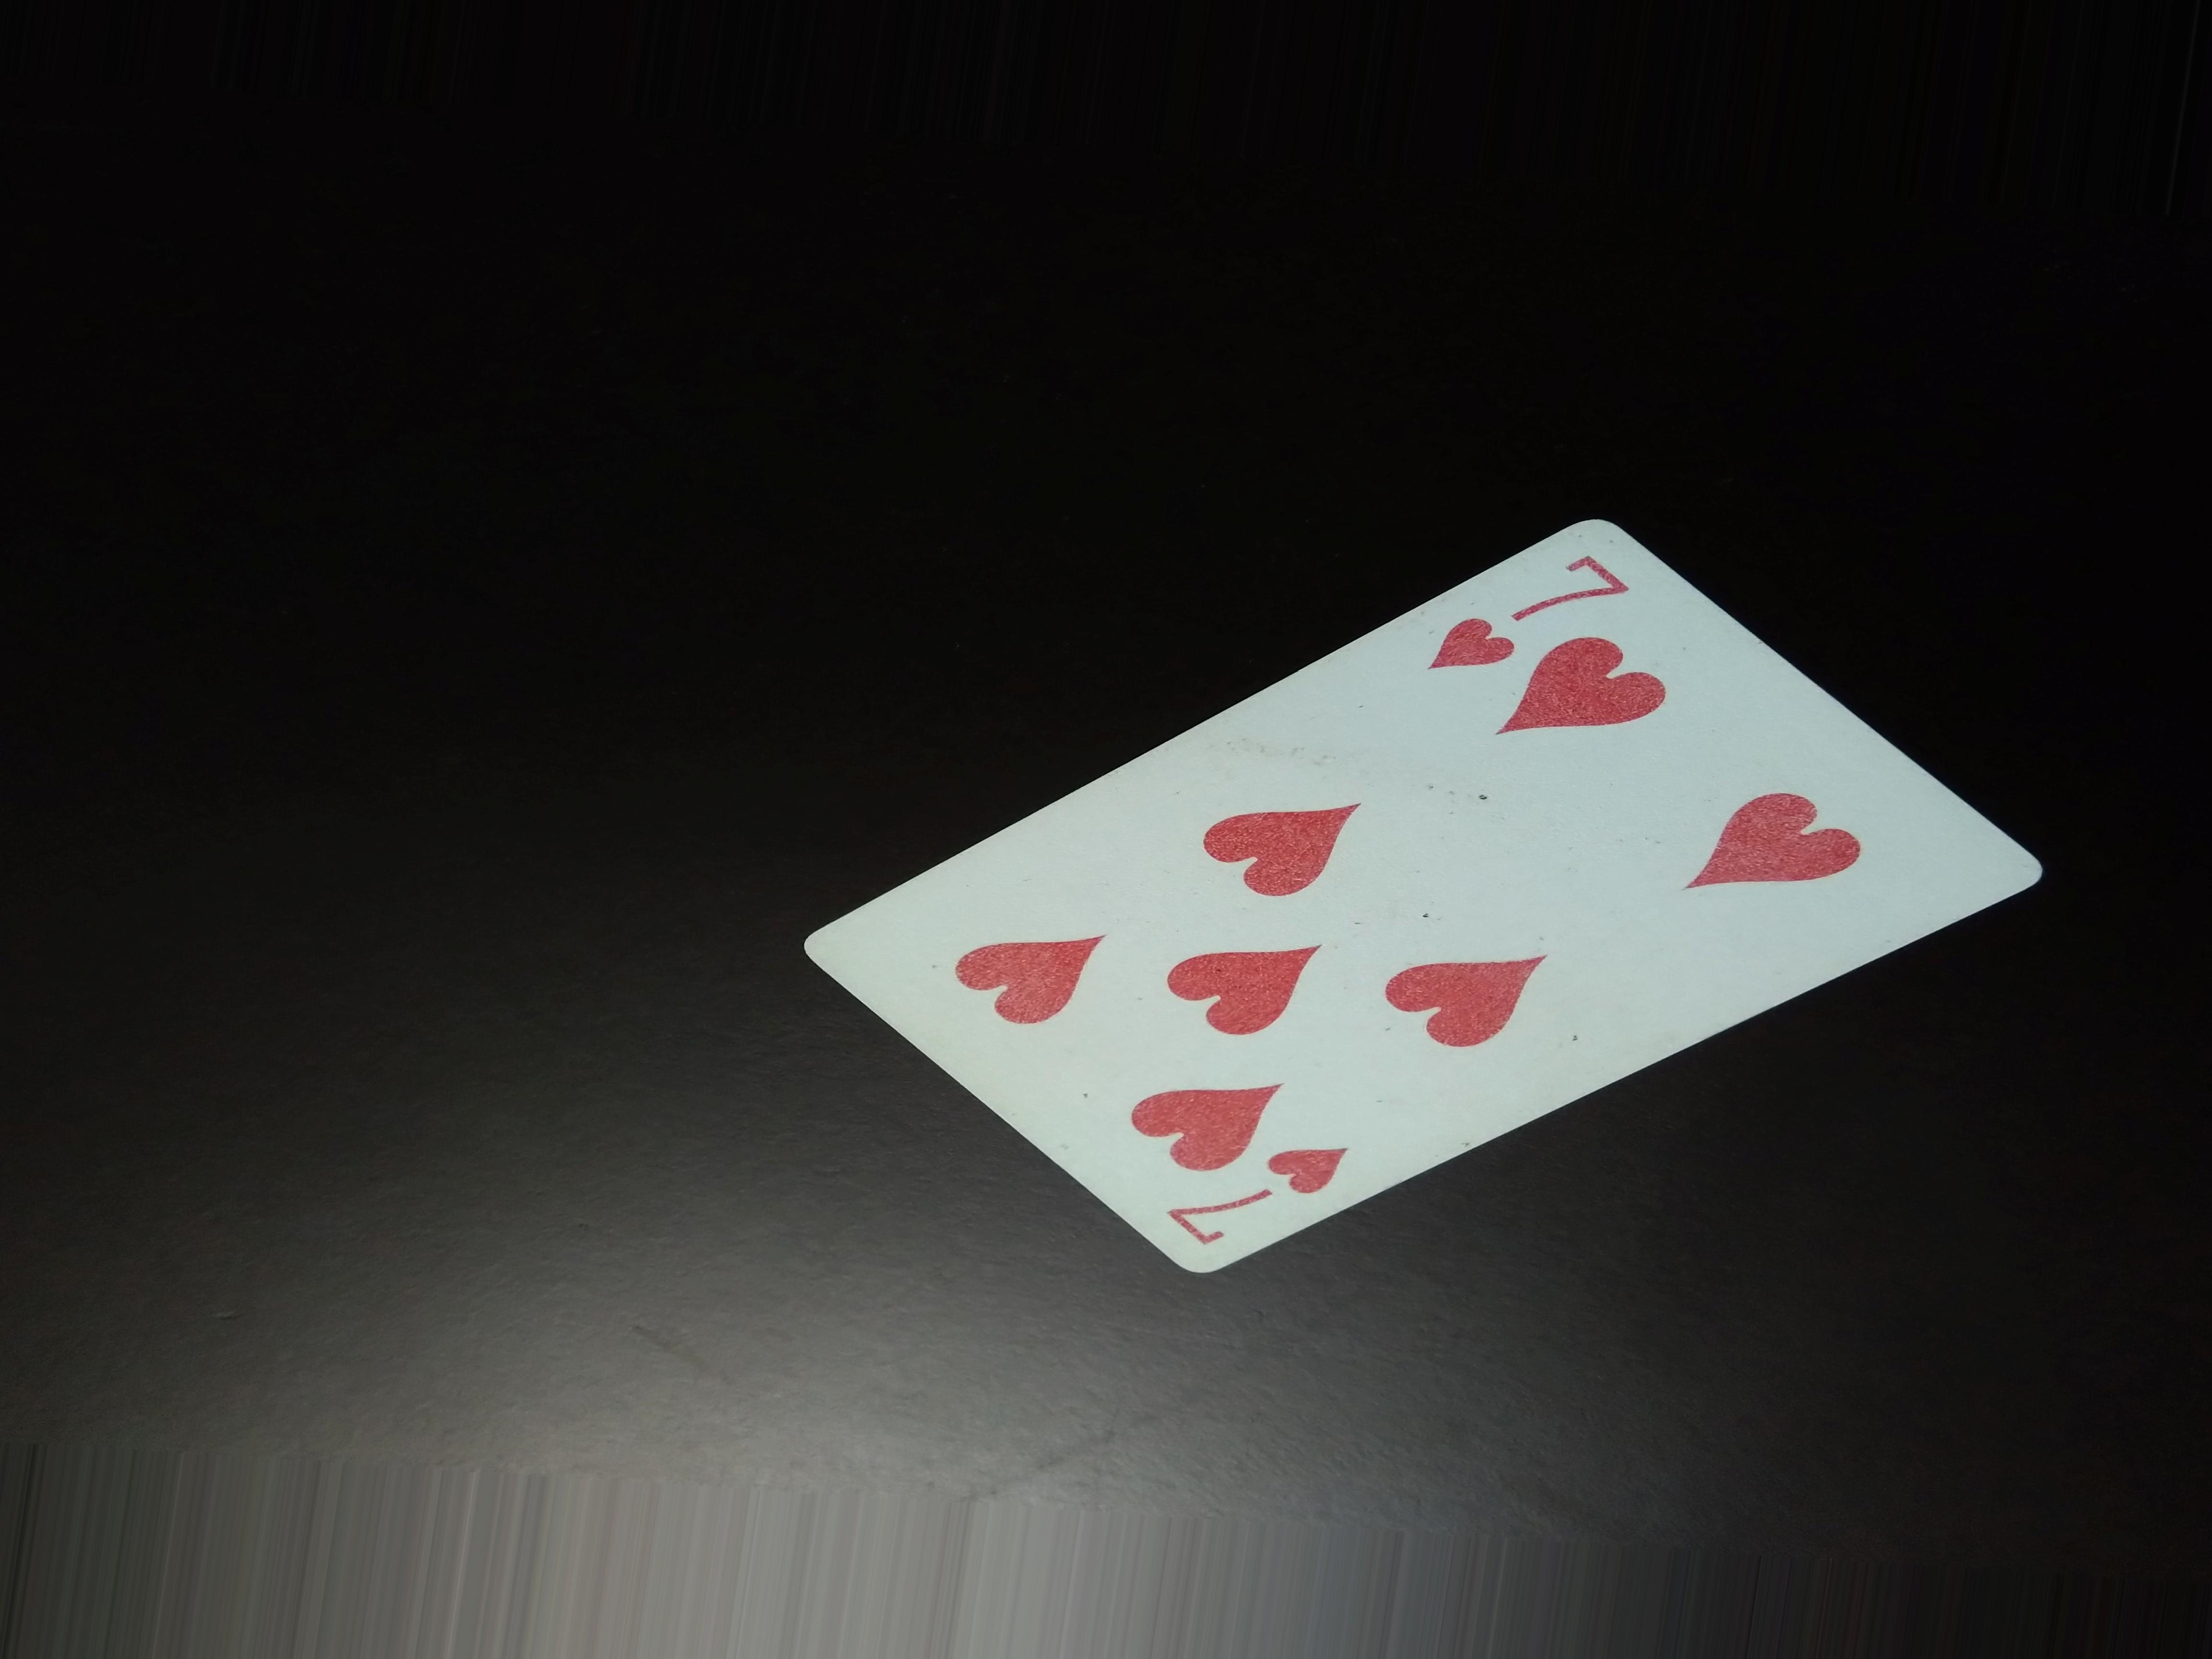7H: (1416, 521, 1629, 694)
